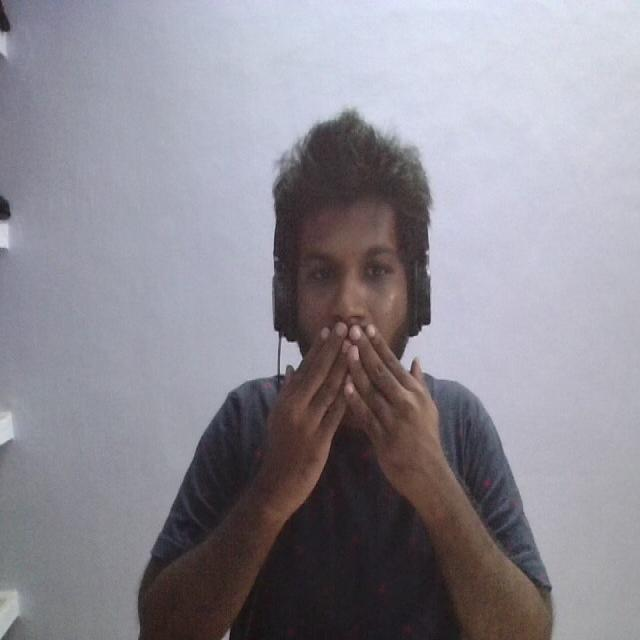Thanks: (200, 270, 489, 560)
